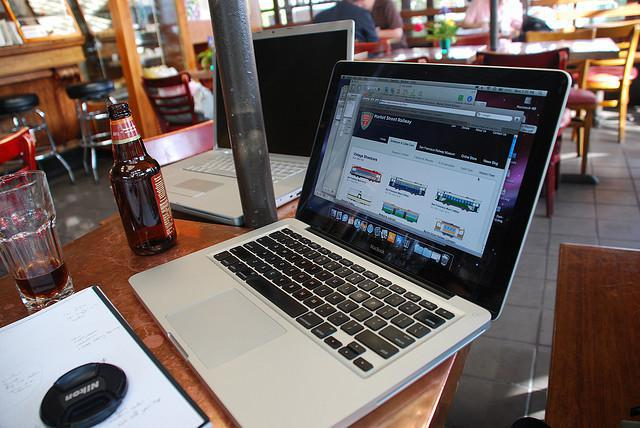tv: (293, 58, 574, 321), (210, 17, 358, 154)
